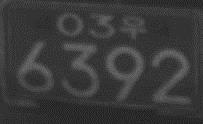0: (55, 11, 84, 37)
2: (151, 46, 193, 107)
3: (61, 41, 99, 99), (86, 12, 116, 40)
6: (16, 39, 55, 93)
9: (105, 44, 145, 103)
우: (119, 12, 147, 39)
